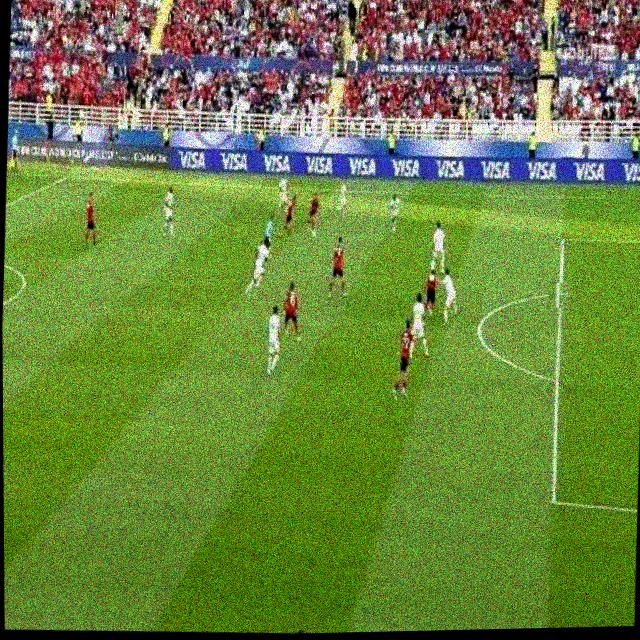bigarea_bottom_inner: (536, 486, 571, 519)
bigarea_top_inner: (554, 231, 570, 250)
bottom_arc_area_intersection: (539, 366, 568, 396)
midline_top_intersection: (60, 169, 70, 181)
top_arc_area_intersection: (547, 281, 570, 308)
